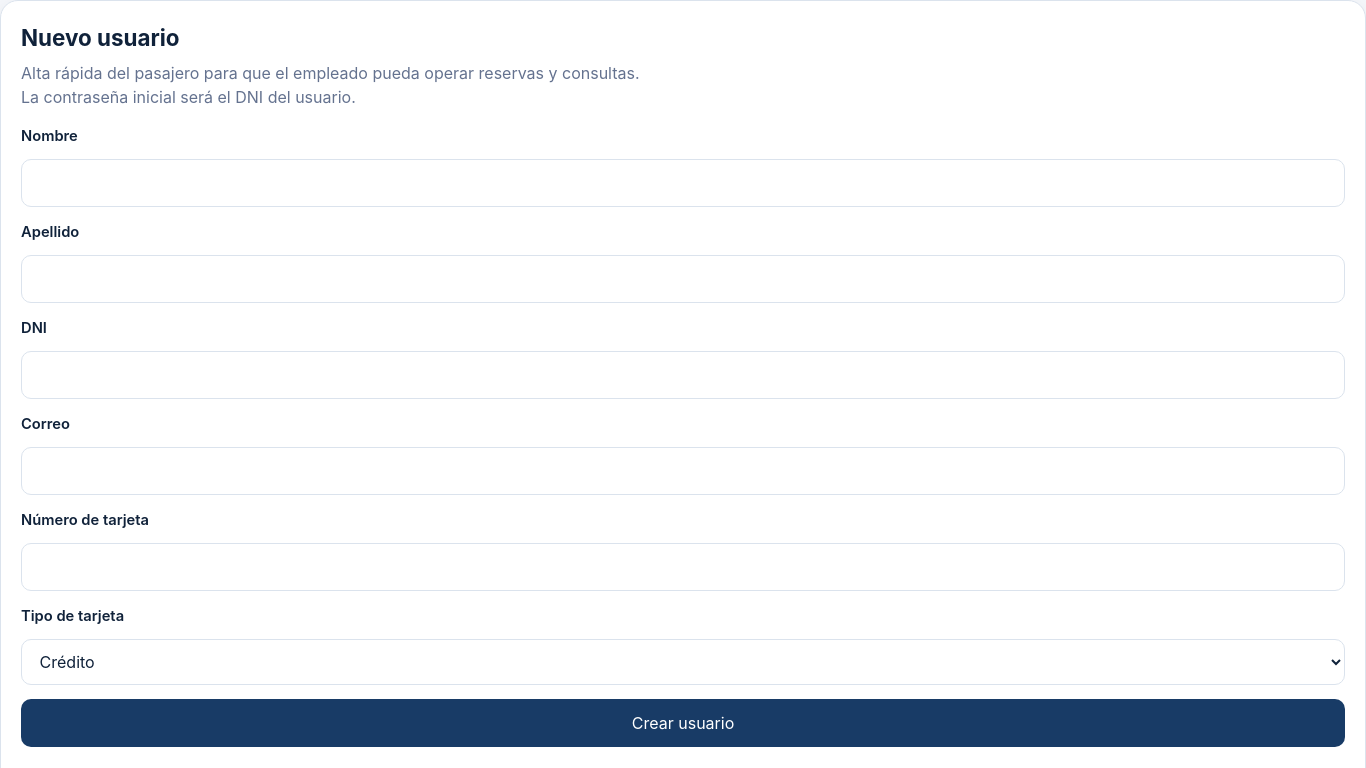
Test: UsuarioNuevo › filtra caracteres no numéricos en número de tarjeta
This screenshot has width=1366, height=768.
Step 1. Type "1234-abcd-56" into the field labelled "Número de tarjeta" → (683, 567), box [21,543,1345,591]
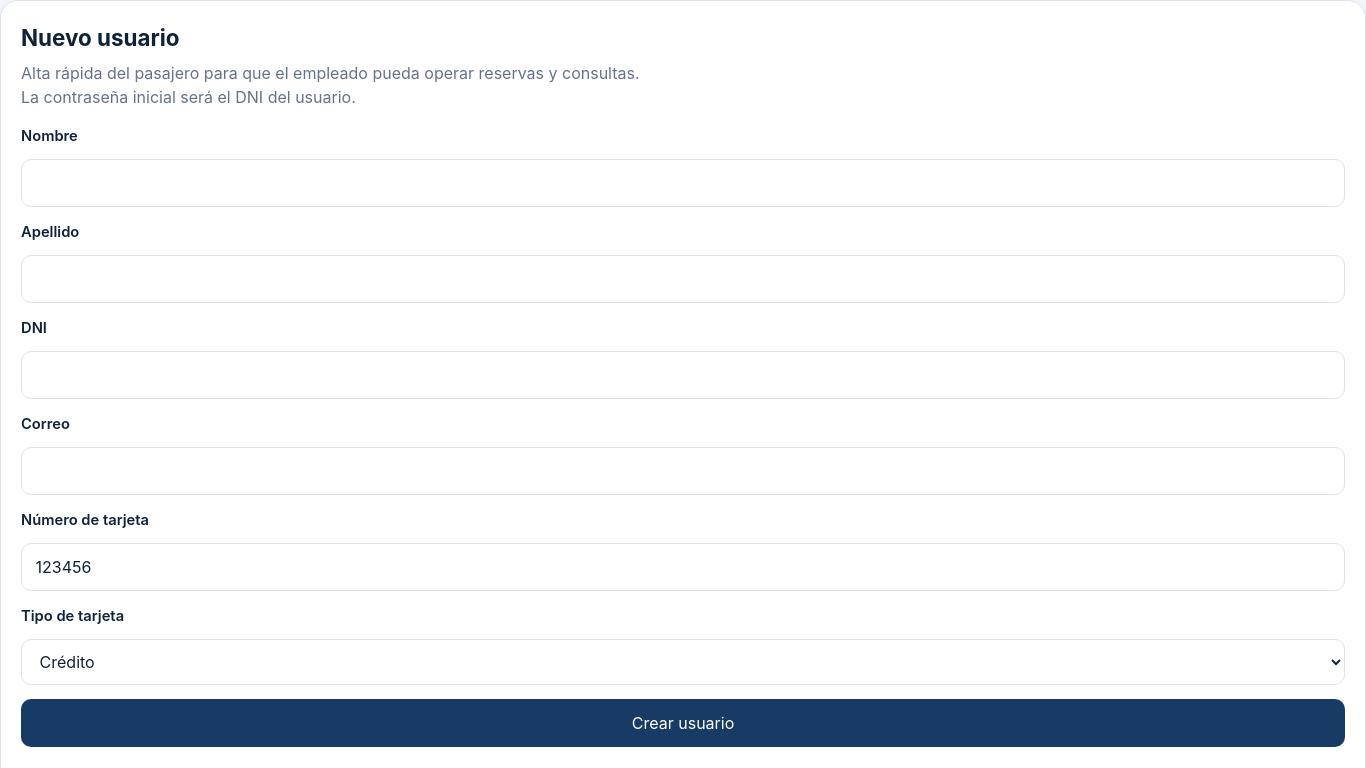
Expected: the field labelled "Número de tarjeta" holds "123456", [21,543,1345,591]
